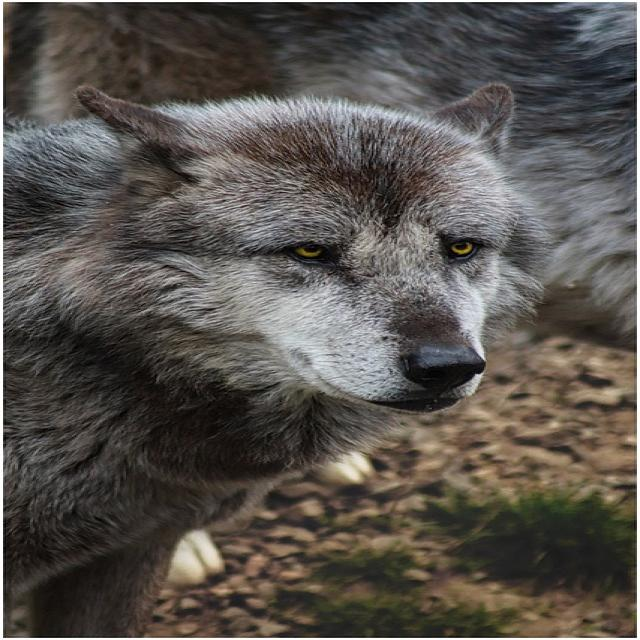Carnivorous: (3, 83, 547, 639), (0, 0, 640, 347)
